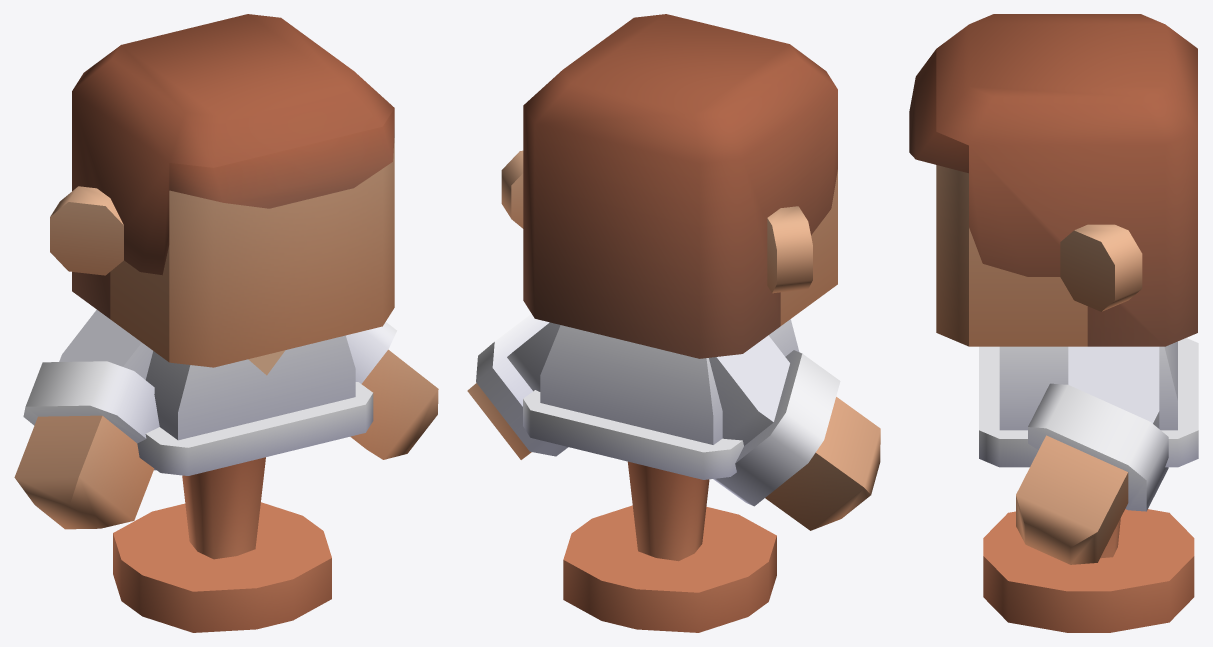
Rendered from mannequin.glb.
3 renders of one model, left to right at view 1: azimuth 30°, elevation 25°; view 2: azimuth 150°, elevation 25°; view 3: azimuth 270°, elevation 25°, orthographic. The views are drawn at different scales.
Visible parts, largest first — view 1: mannequin; view 2: mannequin; view 3: mannequin.
Boxes of the visible parts, left/top/right/bottom form: mannequin: left=14, top=14, right=438, bottom=632; mannequin: left=467, top=14, right=880, bottom=632; mannequin: left=909, top=14, right=1198, bottom=632.
Bounding box in the file's own units: 0.5786 × 0.7187 × 0.3534.
1 material, 1 textured.
